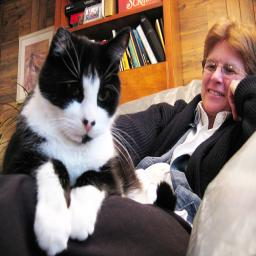catnose: (82, 118, 95, 134)
